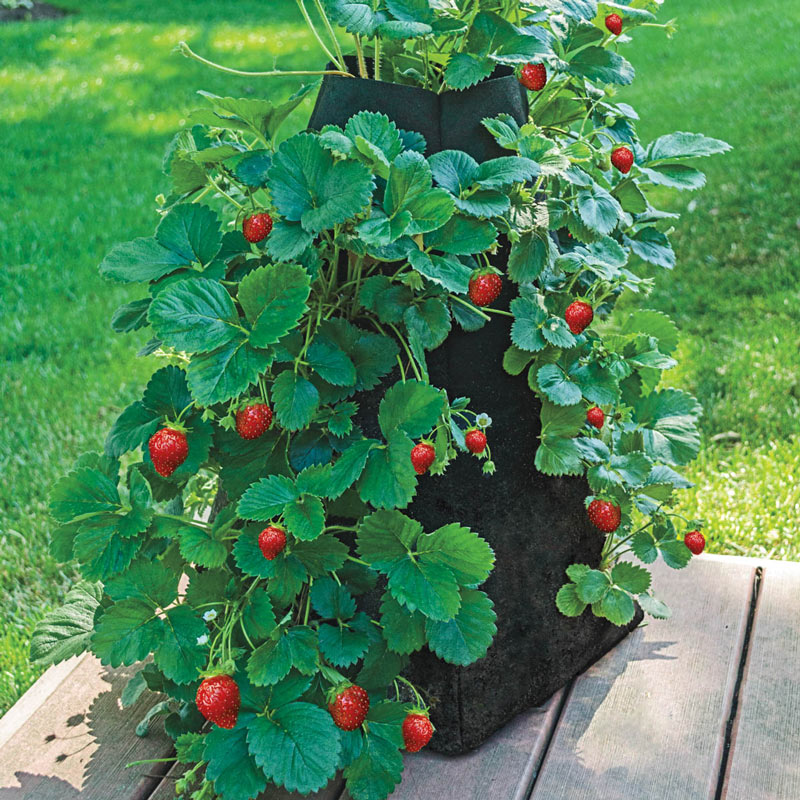strawberry: (324, 681, 374, 735), (193, 677, 241, 731), (146, 427, 194, 478), (232, 399, 276, 440), (399, 705, 435, 754), (586, 495, 624, 537), (467, 268, 504, 309), (255, 525, 289, 563), (561, 301, 595, 336), (411, 441, 437, 478), (242, 210, 273, 241), (516, 60, 546, 92), (608, 145, 635, 177), (684, 530, 707, 559), (603, 14, 627, 40), (583, 407, 608, 430), (464, 429, 486, 454)
